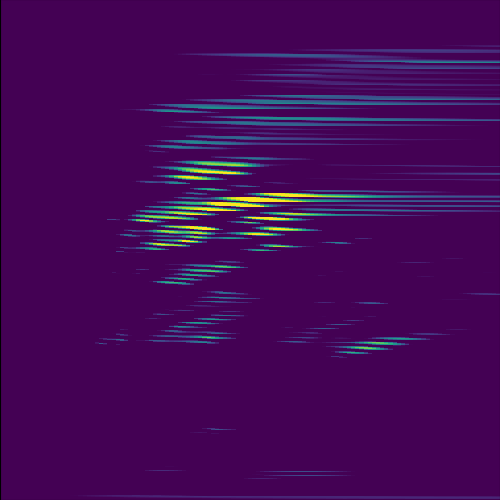semblance: (121, 188, 358, 226), (157, 153, 275, 183), (231, 210, 323, 239)
